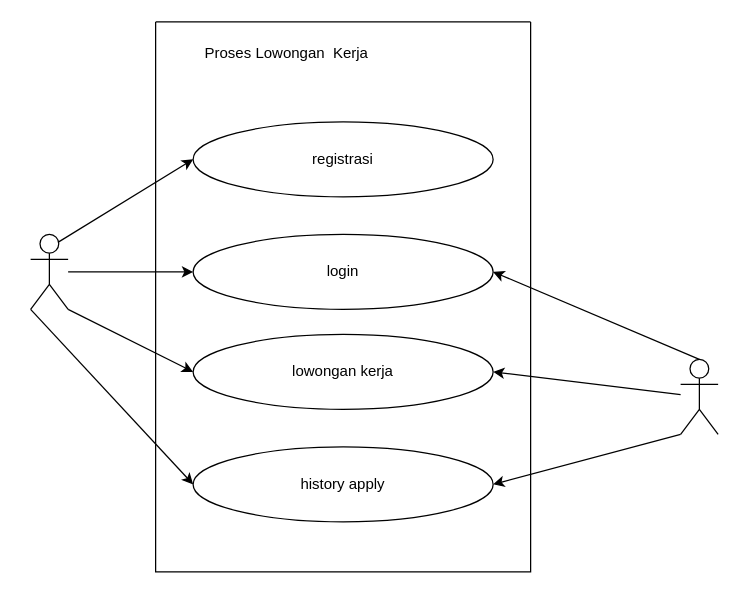
Image size: 741x594. Some labels were removed from this diagram. Here are the shapes that lost their labels. From the top down, the centre of each, then its label:
pixel 48 271: alumni
pixel 698 396: admin
